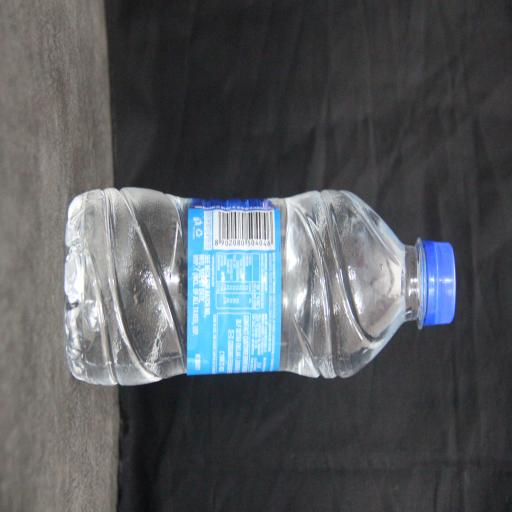Aquafina: (127, 84, 252, 512)
